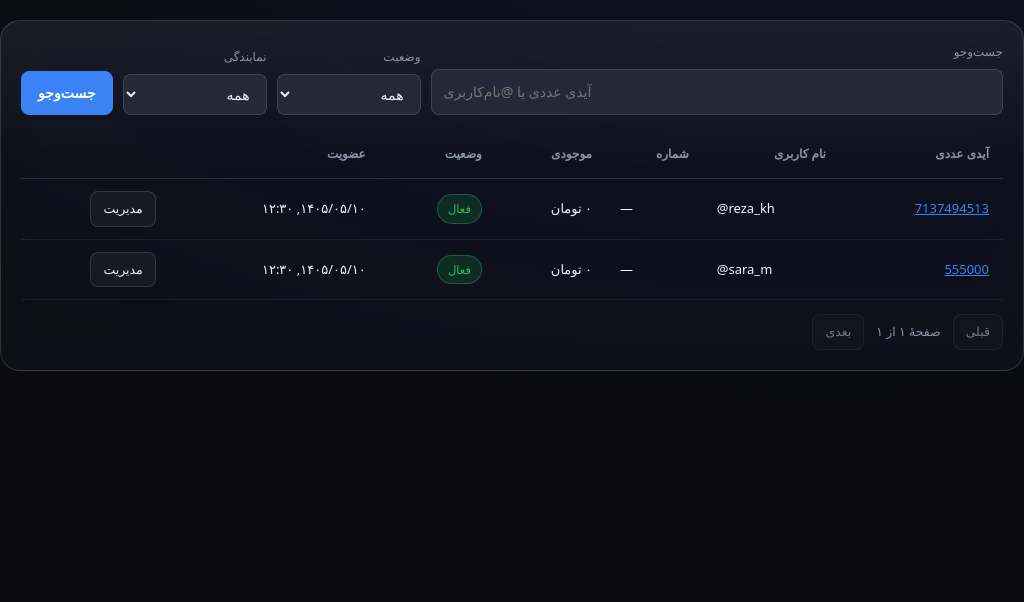
Scenario: a customer in the address bar › writes the id into the address bar when the card is opened by hand
This screenshot has width=1024, height=602.
Click the button "مدیریت" in the row of "7137494513": x=123, y=209 90,191 -> 156,227
(page scrolled)
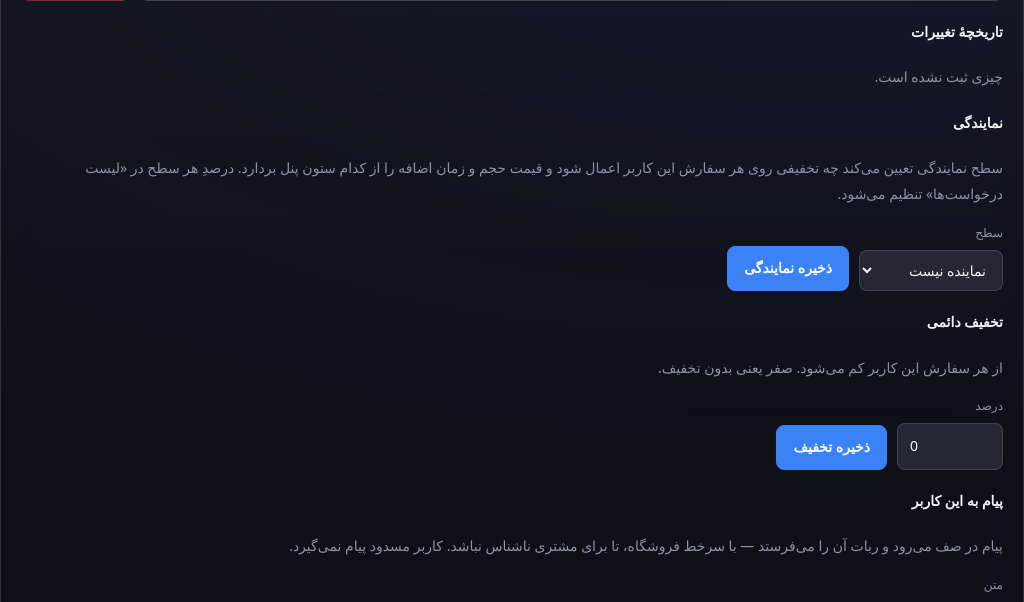
Expected: the heading "تخفیف دائمی" is shown, 927,312 -> 1003,331
